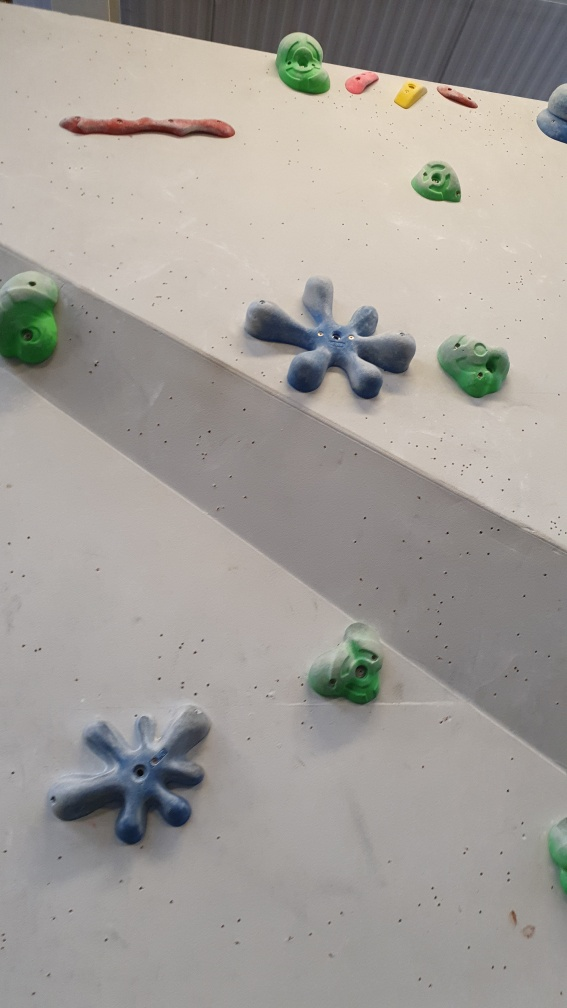Crimp: (435, 78, 483, 113), (346, 67, 380, 96)
Jug: (304, 618, 386, 703), (1, 267, 65, 371), (270, 24, 338, 108), (438, 333, 515, 402), (412, 158, 465, 207)
Octopus Pinch: (47, 704, 212, 847), (242, 278, 417, 400)
Pinch: (58, 111, 239, 147), (396, 79, 432, 116)
Sloper: (535, 78, 567, 143)
